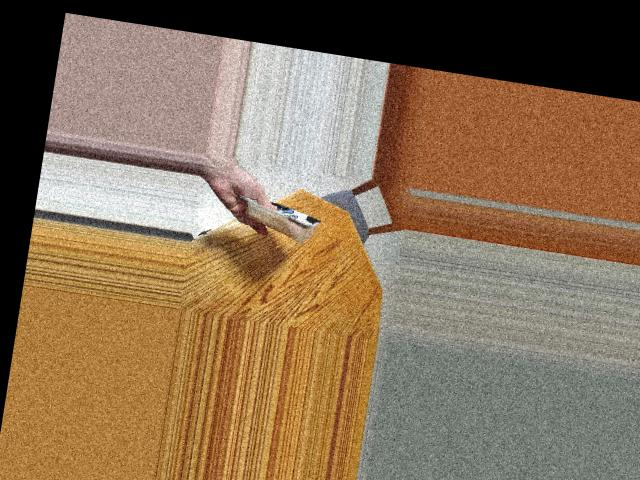cheese: (240, 179, 322, 252)
